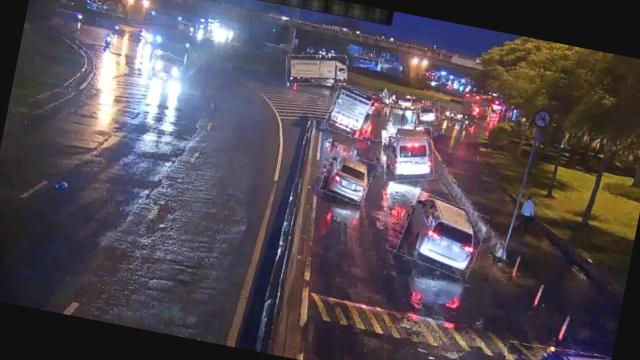Bus: (376, 122, 441, 187), (498, 338, 609, 360)
Car: (396, 191, 489, 278), (320, 148, 374, 204), (148, 50, 184, 80), (411, 101, 442, 127)
Truck: (284, 48, 350, 92), (325, 84, 376, 139), (384, 102, 420, 139)
